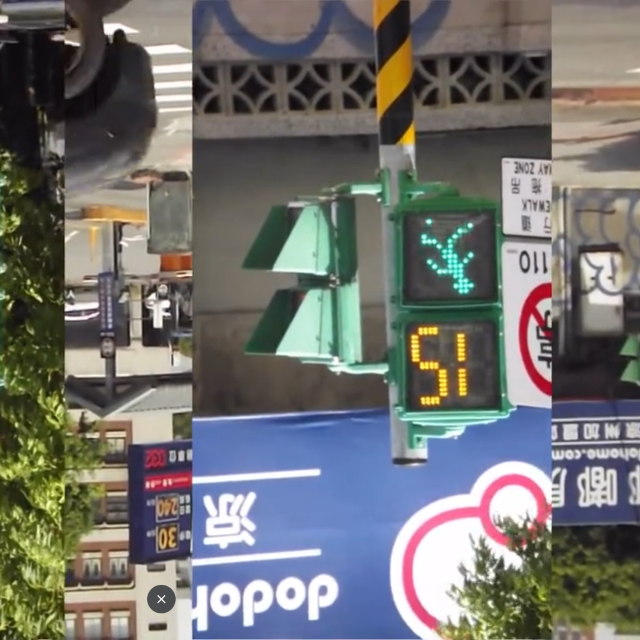green_light: (395, 204, 505, 421)
